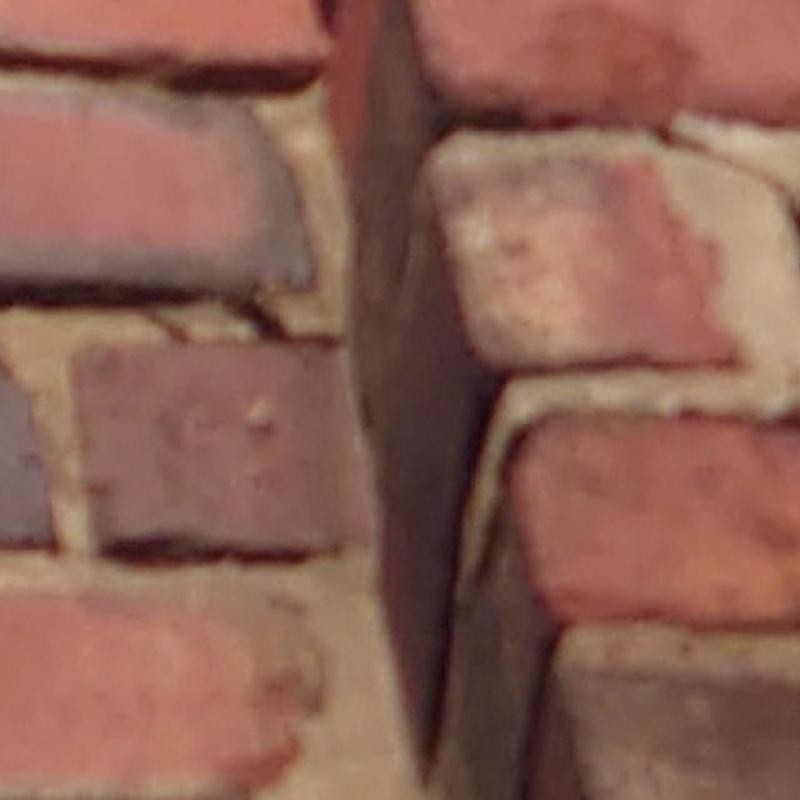pothole: (651, 121, 799, 230), (224, 295, 339, 348), (136, 299, 190, 346)
